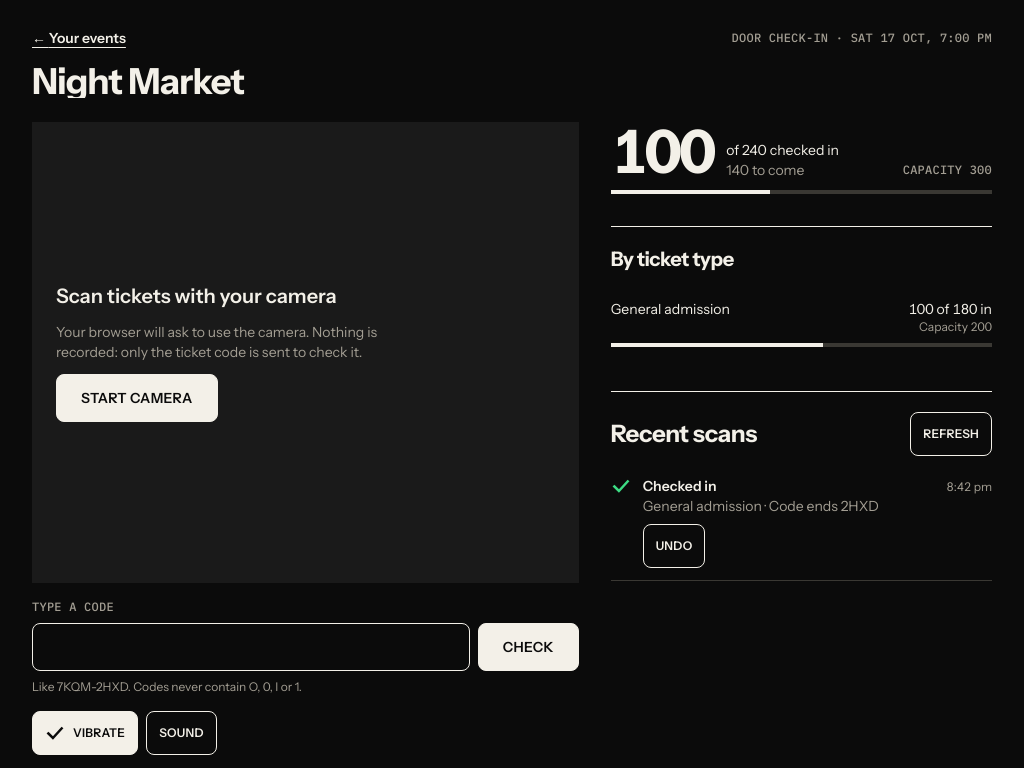
Test case: outcomes › already checked in: DON'T LET IN, its reason, Scan next, and the announcement
The width and height of the screenshot is (1024, 768).
Type "7KQM-2HXD" into the field labelled "Type a code" at (251, 647), box [32,623,470,671]
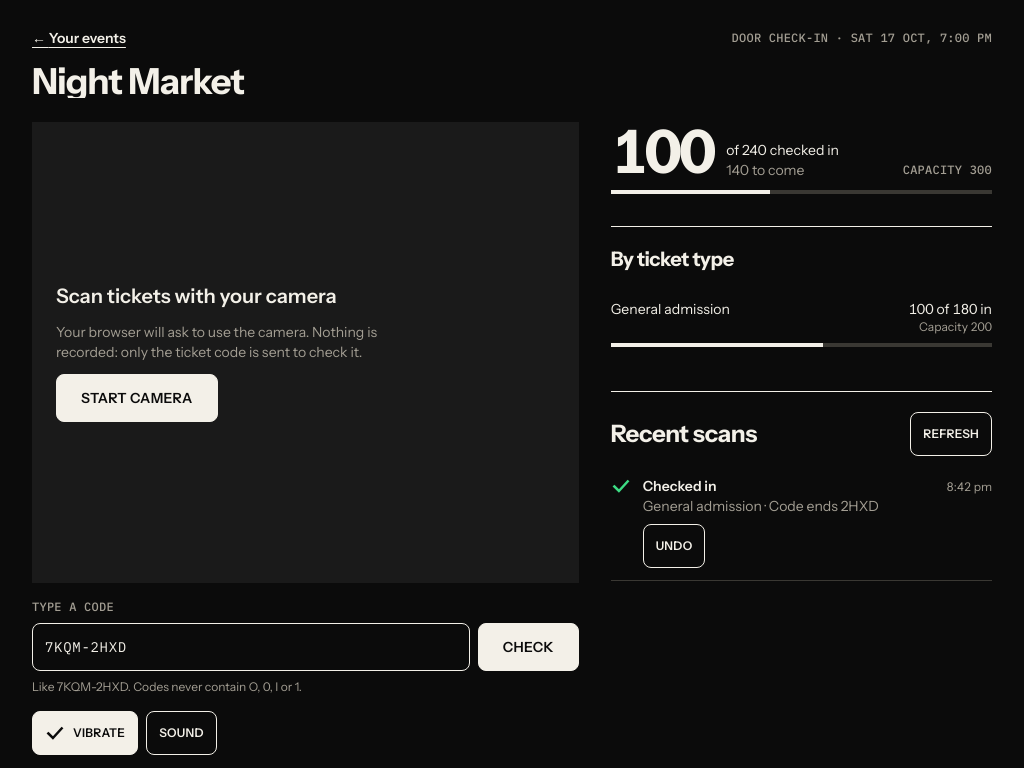
Click the button "Check" at (528, 647), box [478,623,579,671]
Wait 40 ms
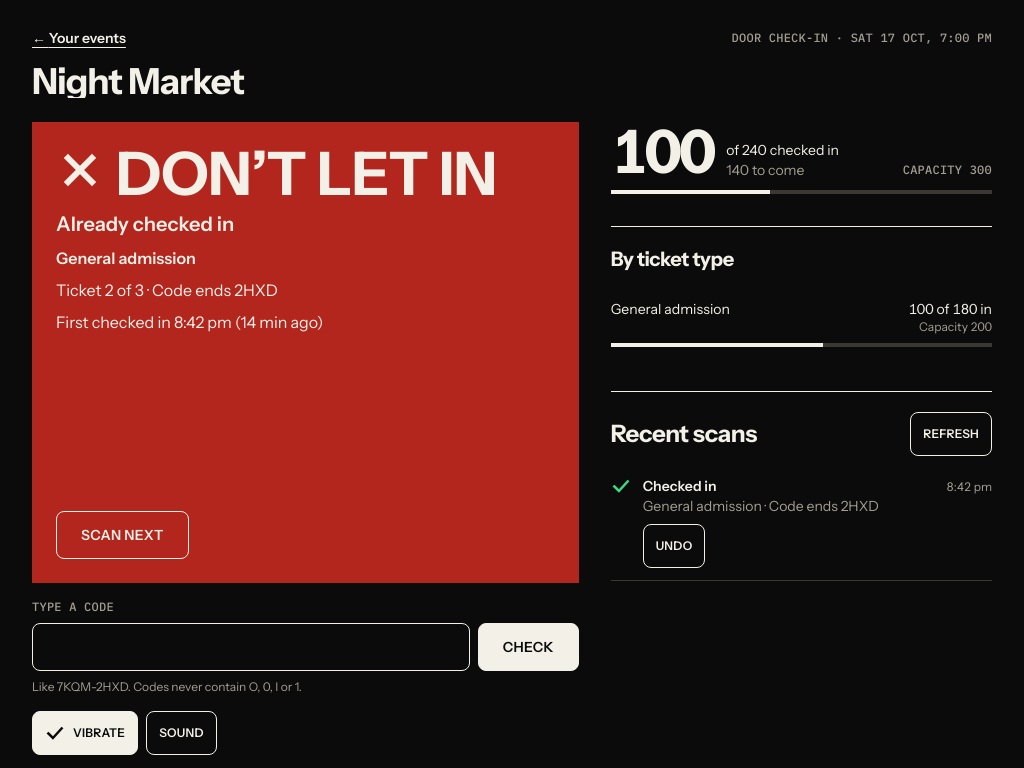
Now the text "Don’t let in" is shown, box [116,146,496,202]
Now the text "Already checked in" is shown, box [56,212,234,236]
Now the text "First checked in 8:42 pm (14 min ago)" is shown, box [56,312,323,332]
